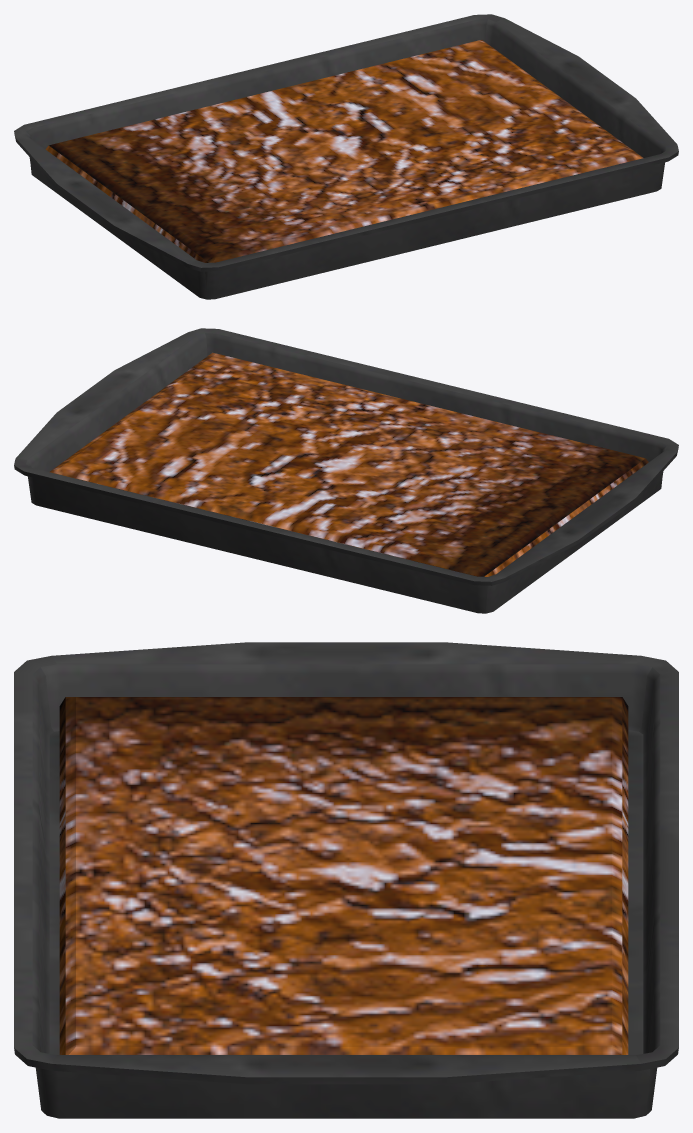
Rendered from CannabisBrowniesPan.fbx.
3 views of the same model, one above another, from view 1: azimuth 30°, elevation 25°; view 2: azimuth 150°, elevation 25°; view 3: azimuth 270°, elevation 25° (orthographic). The views are drawn at different scales.
Parts seen in each view (by area): view 1: Object; view 2: Object; view 3: Object.
Part boxes in pixels (left/top/right/bottom): Object: left=14, top=14, right=678, bottom=299; Object: left=14, top=328, right=678, bottom=613; Object: left=14, top=642, right=678, bottom=1118.
Bounding box in the file's own units: 0.4103 × 0.0293 × 0.265.
